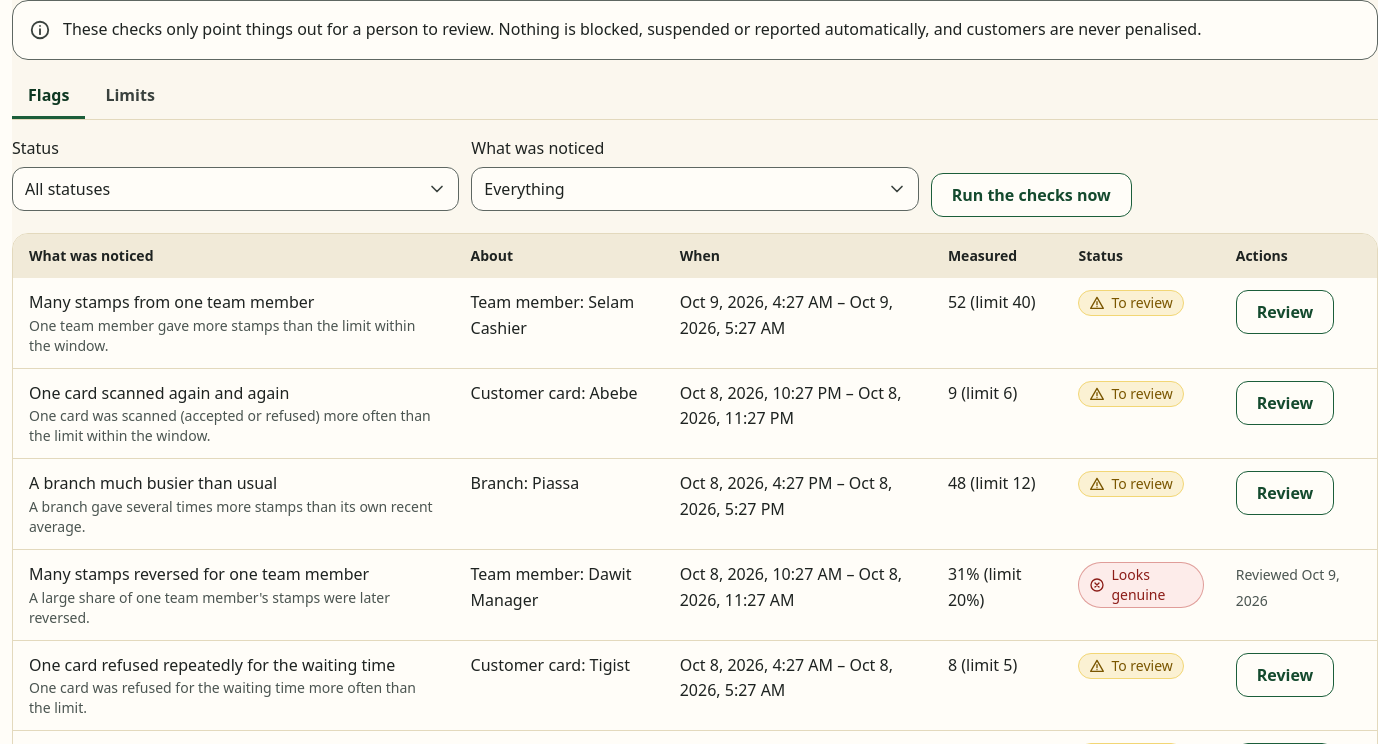
Scenario: limits › shows the limits with their allowed ranges
Click the tab "Limits" at x=130, y=98, box 89,76 -> 171,120
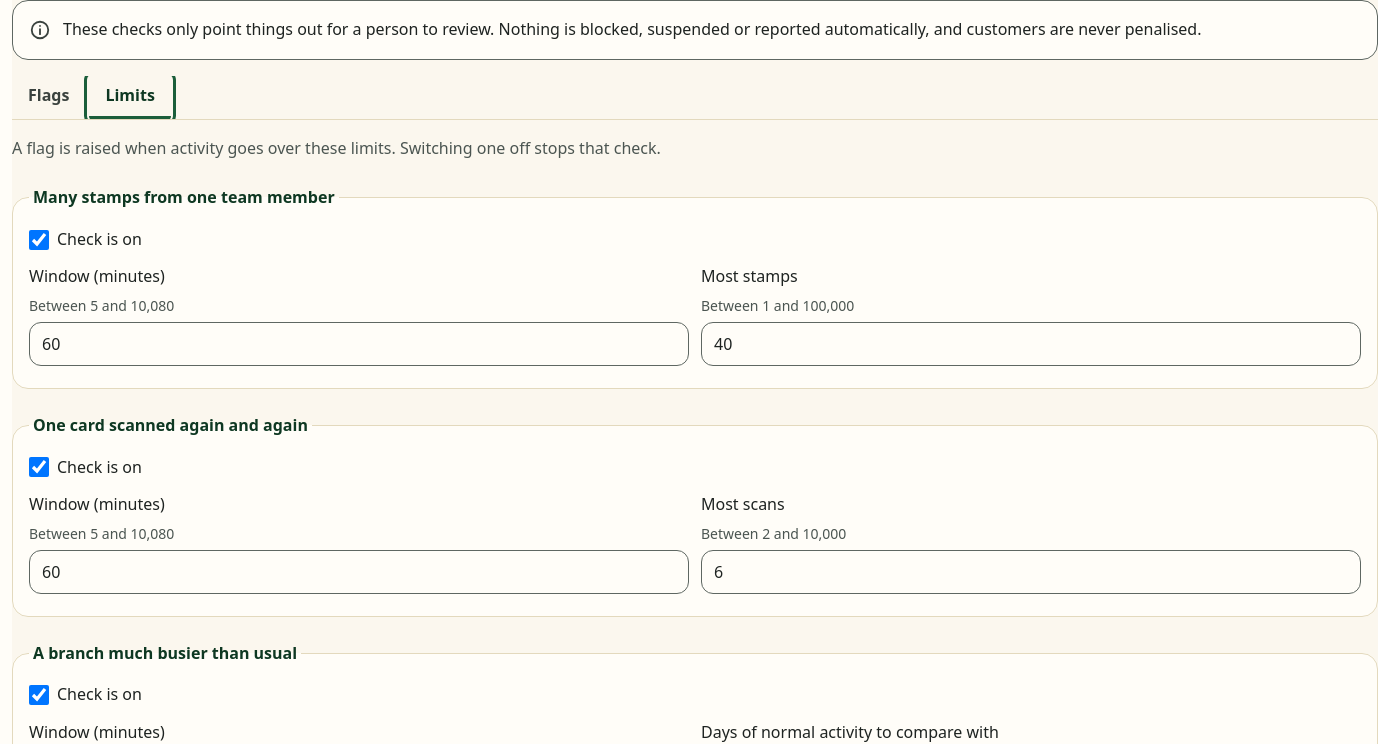
Result: the field labelled "Most stamps" holds "40" at 701,322 -> 1361,366
Result: the text "Between 1 and 100,000" is shown at 701,296 -> 854,315
